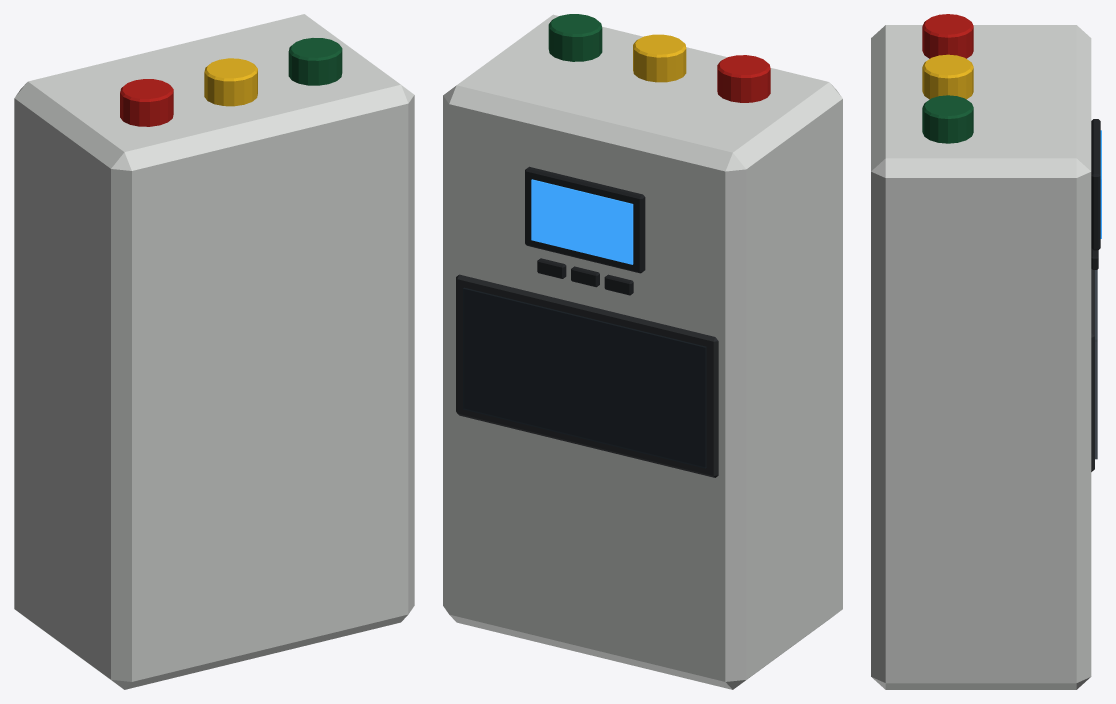
The model's file is food_printer.glb.
3 views of the same model, side by side, from view 1: azimuth 30°, elevation 25°; view 2: azimuth 150°, elevation 25°; view 3: azimuth 270°, elevation 25° (orthographic).
Parts seen in each view (by area): view 1: food_printer; view 2: food_printer; view 3: food_printer.
Boxes of the visible parts, x1,y1,x2,y2 form: food_printer: (14, 14, 414, 689); food_printer: (443, 14, 842, 689); food_printer: (871, 14, 1101, 689).
Size of the model in its own units: 0.9 by 1.6 by 0.6.
